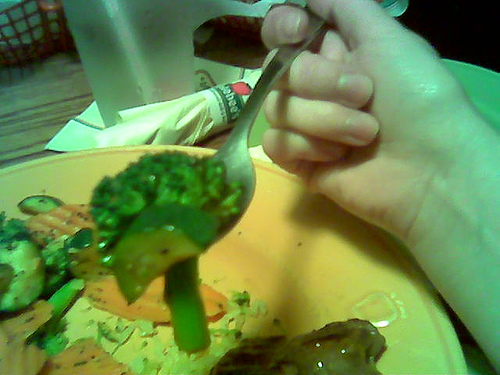broccoli: (93, 144, 236, 352)
